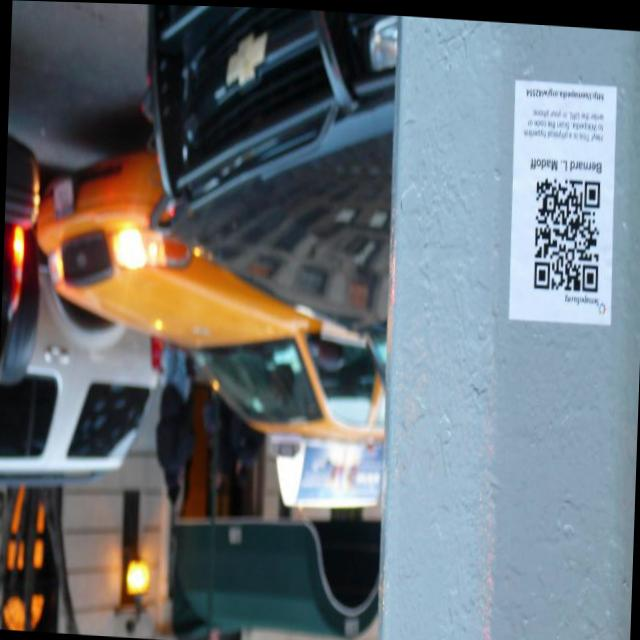qrcode: (533, 175, 601, 287)
